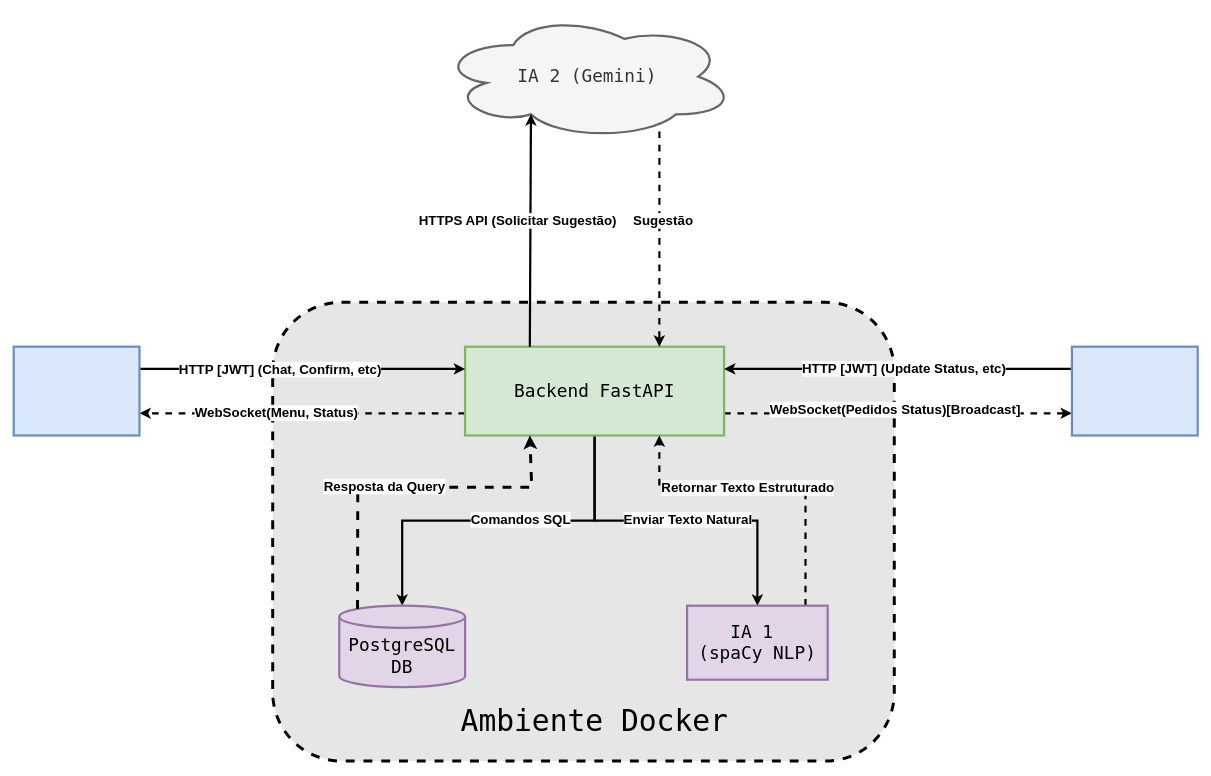
This 1211x776 diagram has some shape labels left out. The centre of each missing label's shape, as x and y in pixels:
"Frontend Cliente" goes at (x=76, y=390).
"Frontend Cozinha" goes at (x=1134, y=390).
